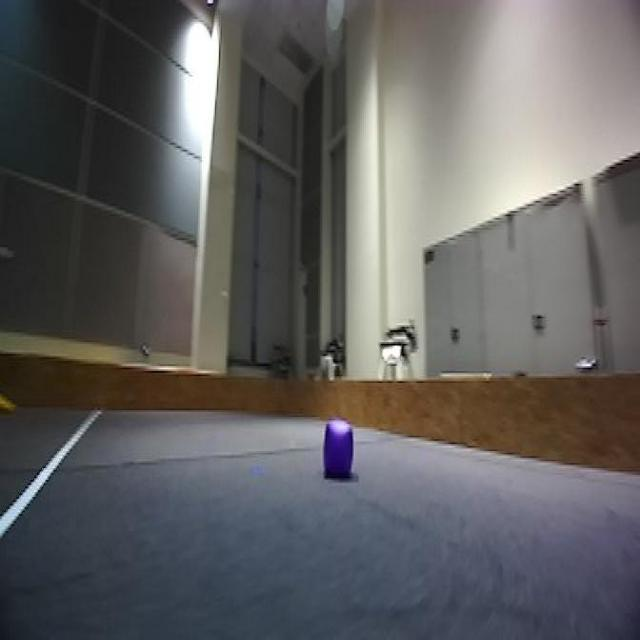frc_cube: (319, 418, 357, 482)
